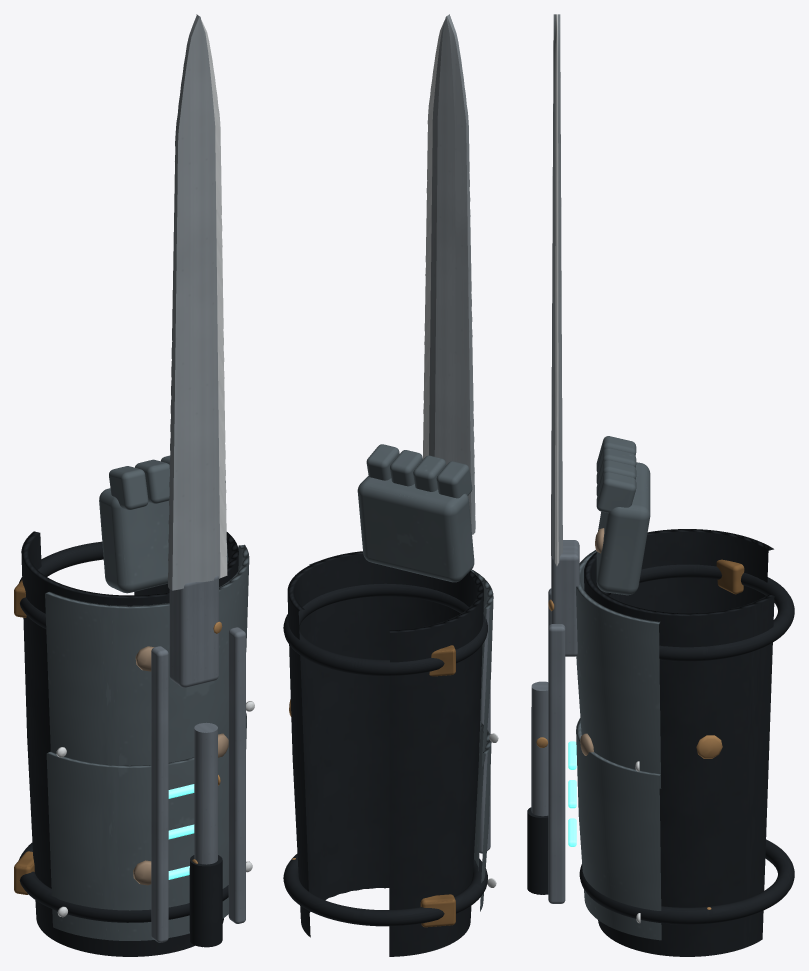
File: servo-blade.glb
The picture shows the model from 3 angles, left to right: view 1: azimuth 30°, elevation 25°; view 2: azimuth 150°, elevation 25°; view 3: azimuth 270°, elevation 25°; orthographic projection. The views are drawn at different scales.
Parts seen in each view (by area): view 1: ceramic / ceramic composite panel, steel / forged blade steel, alloy / machined anodized alloy, polymer / stippled polymer, edge / honed bright bevel, glaze bead, bronze / cast bronze with patina, energy / emissive field channel; view 2: polymer / stippled polymer, steel / forged blade steel, ceramic / ceramic composite panel, edge / honed bright bevel, bronze / cast bronze with patina, alloy / machined anodized alloy; view 3: polymer / stippled polymer, ceramic / ceramic composite panel, alloy / machined anodized alloy, steel / forged blade steel, edge / honed bright bevel, energy / emissive field channel, bronze / cast bronze with patina.
Boxes of the visible parts, x1,y1,x2,y2 form: ceramic / ceramic composite panel: (45,455,249,940); steel / forged blade steel: (167,14,220,590); alloy / machined anodized alloy: (151,575,245,942); polymer / stippled polymer: (19,531,238,956); edge / honed bright bevel: (56,20,254,917); glaze bead: (133,646,228,885); bronze / cast bronze with patina: (14,580,34,894); energy / emissive field channel: (168,784,194,879); polymer / stippled polymer: (283,551,487,956); steel / forged blade steel: (429,14,475,534); ceramic / ceramic composite panel: (309,444,493,911); edge / honed bright bevel: (423,20,498,887); bronze / cast bronze with patina: (420,645,455,927); alloy / machined anodized alloy: (479,608,490,853); polymer / stippled polymer: (527,529,794,956); ceramic / ceramic composite panel: (576,436,661,940); alloy / machined anodized alloy: (531,540,579,903); steel / forged blade steel: (551,14,562,562); edge / honed bright bevel: (555,14,640,923); energy / emissive field channel: (568,741,576,846); bronze / cast bronze with patina: (716,559,744,594).
Bounding box in the file's own units: 0.155 × 0.705 × 0.1889.
Materials: 9 (6 with a texture image).
